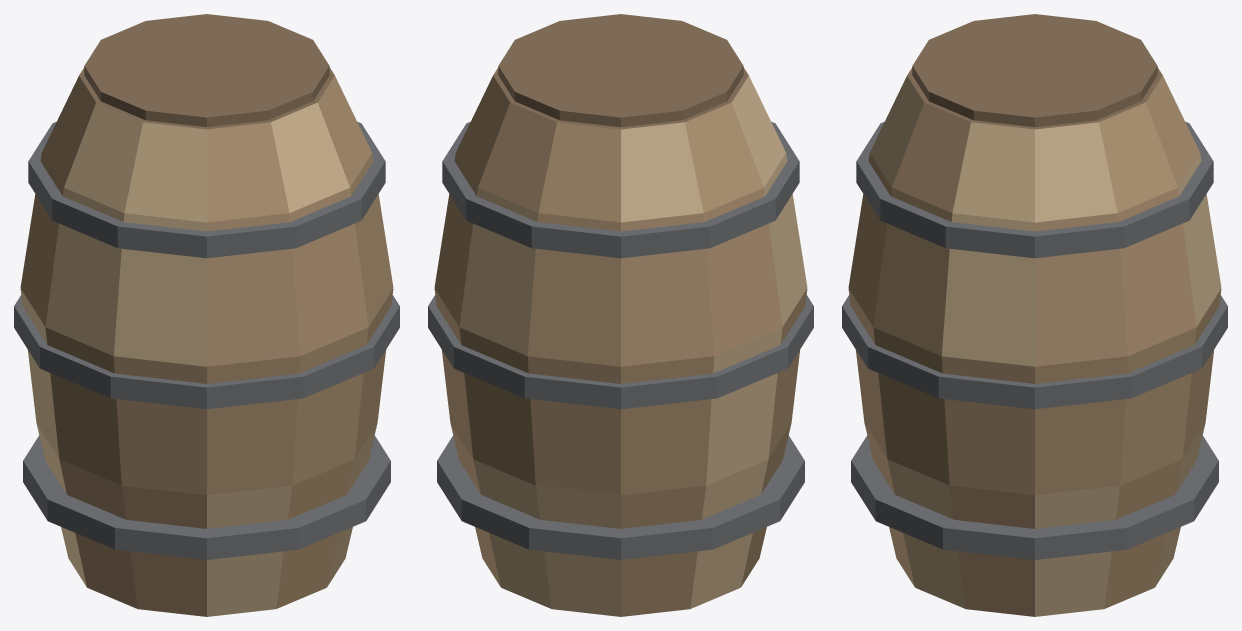
File: barrel.glb
The picture shows the model from 3 angles, left to right: view 1: azimuth 30°, elevation 25°; view 2: azimuth 150°, elevation 25°; view 3: azimuth 270°, elevation 25°; orthographic projection.
Visible parts, largest first — view 1: barrel; view 2: barrel; view 3: barrel.
Part boxes in pixels (x1,y1,x2,y2): barrel: (14, 14, 399, 616); barrel: (428, 14, 813, 616); barrel: (842, 14, 1227, 616).
Size of the model in its own units: 0.724 by 1.02 by 0.724.
